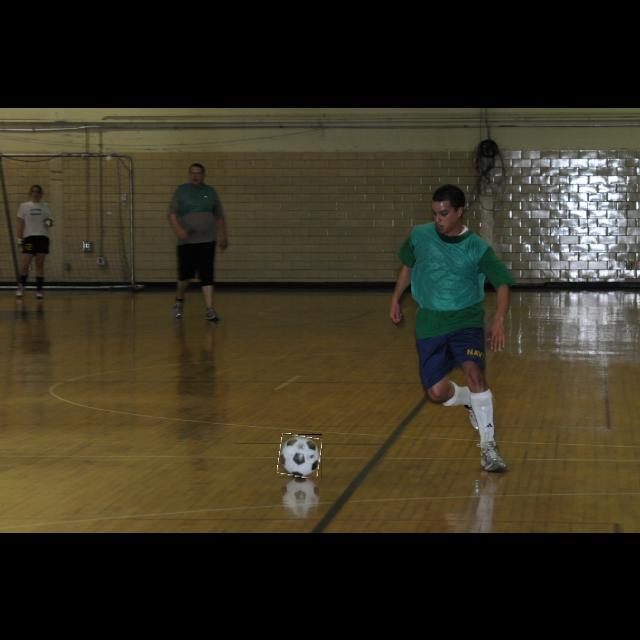Football: (278, 434, 322, 478)
